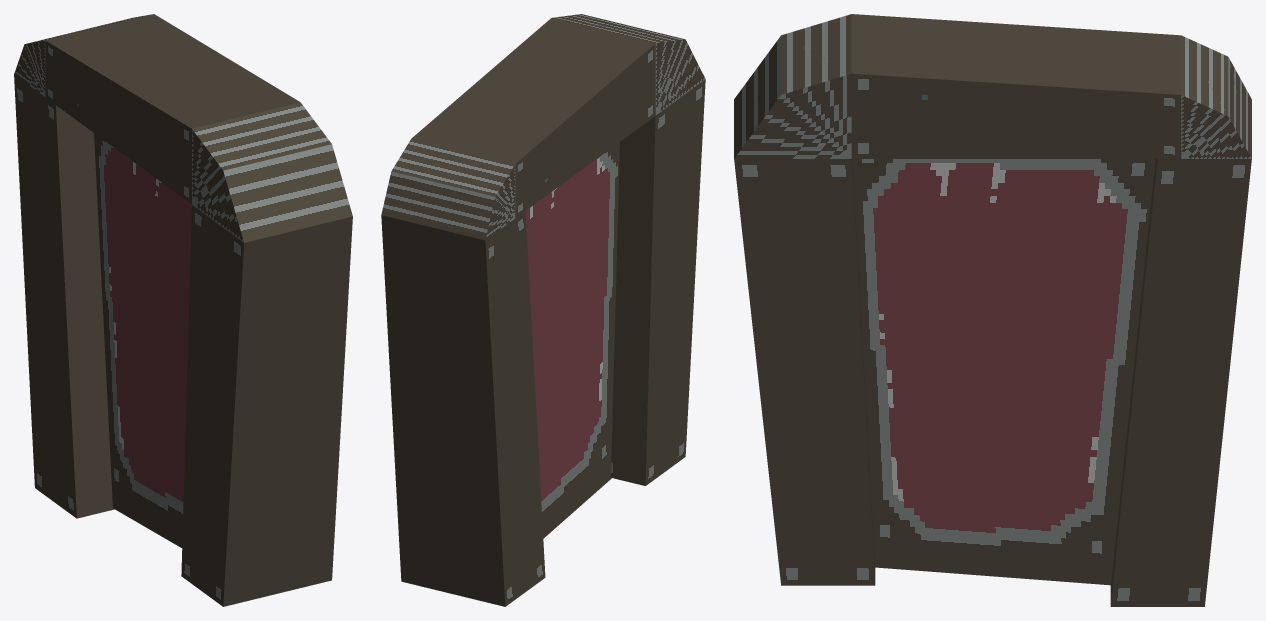
The model's file is generic_door_open.glb.
3 views of the same model, side by side, from view 1: azimuth 30°, elevation 25°; view 2: azimuth 150°, elevation 25°; view 3: azimuth 270°, elevation 25° (orthographic). The views are drawn at different scales.
Parts seen in each view (by area): view 1: Mesh_0.025; view 2: Mesh_0.025; view 3: Mesh_0.025.
Part boxes in pixels (x1,y1,x2,y2): Mesh_0.025: (14, 14, 352, 606); Mesh_0.025: (381, 14, 705, 606); Mesh_0.025: (734, 14, 1251, 606).
Size of the model in its own units: 1.5 by 6.25 by 5.5.
1 material, 1 textured.
